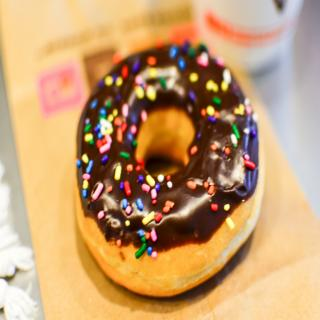Doughnut: (74, 41, 264, 298)
